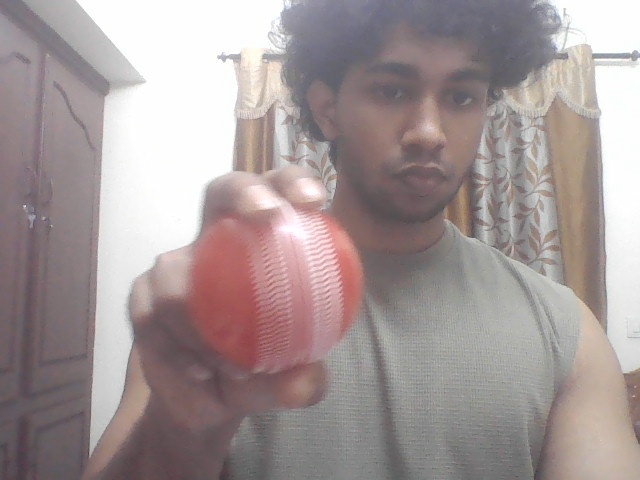cricket_ball: (179, 206, 380, 380)
